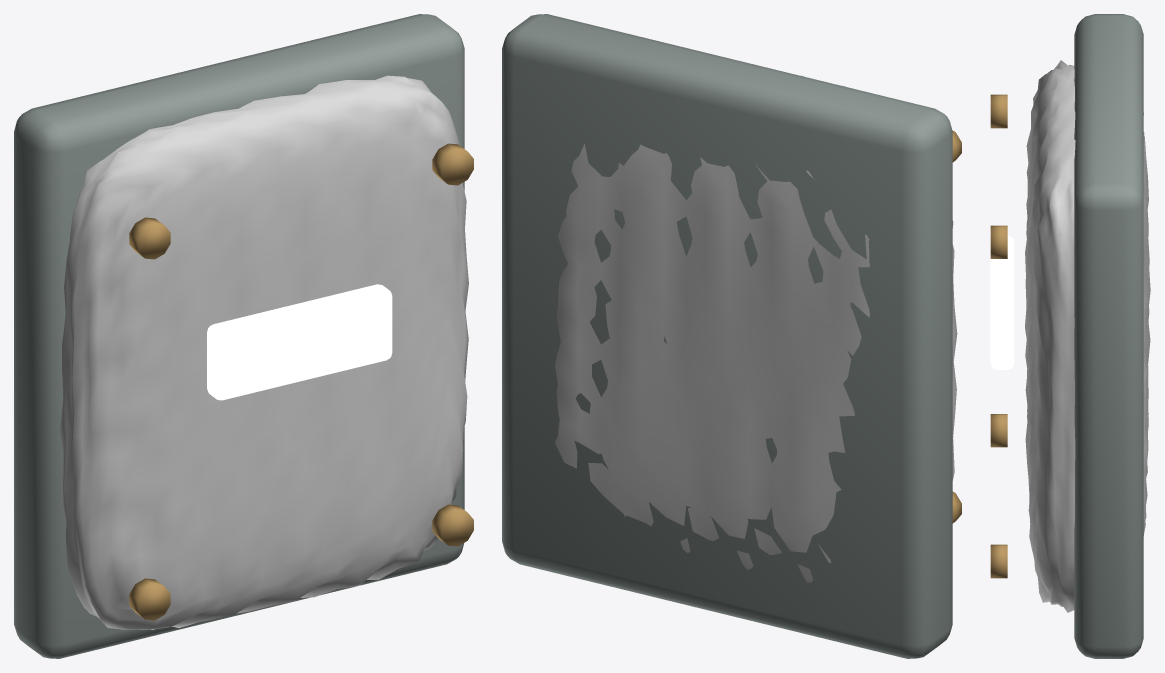
Rendered from shield.glb.
3 renders of one model, left to right at view 1: azimuth 30°, elevation 25°; view 2: azimuth 150°, elevation 25°; view 3: azimuth 270°, elevation 25°, orthographic. The views are drawn at different scales.
Parts seen in each view (by area): view 1: lower_clay, lower_steel, lower_lens, lower_brass; view 2: lower_steel, lower_clay; view 3: lower_steel, lower_clay, lower_lens, lower_brass.
Boxes of the visible parts, <box> form: lower_clay: <box>60,75,468,629</box>; lower_steel: <box>14,14,464,658</box>; lower_lens: <box>207,284,392,400</box>; lower_brass: <box>129,143,473,620</box>; lower_steel: <box>502,14,952,658</box>; lower_clay: <box>555,75,957,582</box>; lower_steel: <box>1074,14,1143,658</box>; lower_clay: <box>1025,60,1150,612</box>; lower_lens: <box>990,235,1014,369</box>; lower_brass: <box>990,94,1007,578</box>.
Size of the model in its own units: 0.82 by 0.98 by 0.3004.
